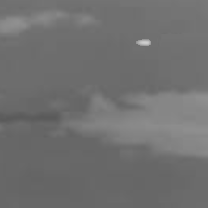Target: (135, 38, 152, 47)
